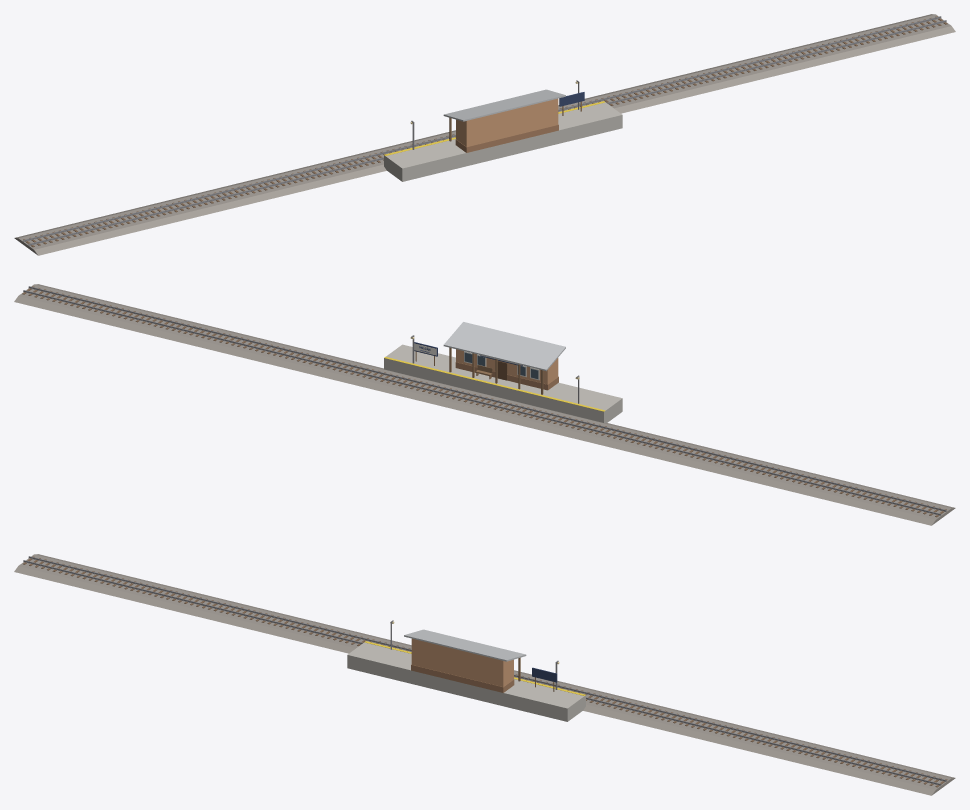
File: estacion_volcan.glb
The picture shows the model from 3 angles, top to bottom: view 1: azimuth 30°, elevation 25°; view 2: azimuth 150°, elevation 25°; view 3: azimuth 330°, elevation 25°; orthographic projection.
Visible parts, largest first — view 1: Balasto, Anden, Rieles, Durmientes, MuroAdobe, Techo, Zocalo; view 2: Balasto, Anden, Rieles, Durmientes, Techo, MuroAdobe, LineaSeguridad; view 3: Balasto, Anden, Rieles, Durmientes, MuroAdobe, Techo, Zocalo.
Part boxes in pixels (<box>): Balasto: <box>14,14,955,255</box>; Anden: <box>384,102,622,181</box>; Rieles: <box>23,16,946,245</box>; Durmientes: <box>23,16,947,247</box>; MuroAdobe: <box>456,98,558,146</box>; Techo: <box>443,89,565,121</box>; Zocalo: <box>455,124,558,152</box>; Balasto: <box>14,284,955,525</box>; Anden: <box>384,344,622,422</box>; Rieles: <box>23,286,946,515</box>; Durmientes: <box>22,286,946,517</box>; Techo: <box>443,322,565,371</box>; MuroAdobe: <box>456,349,558,384</box>; LineaSeguridad: <box>384,356,605,411</box>; Balasto: <box>14,554,955,795</box>; Anden: <box>347,642,585,721</box>; Rieles: <box>23,556,946,785</box>; Durmientes: <box>23,556,947,787</box>; MuroAdobe: <box>411,638,513,686</box>; Techo: <box>404,629,526,661</box>; Zocalo: <box>411,664,514,692</box>.
Size of the model in its own units: 100 by 5.1 by 7.9.
